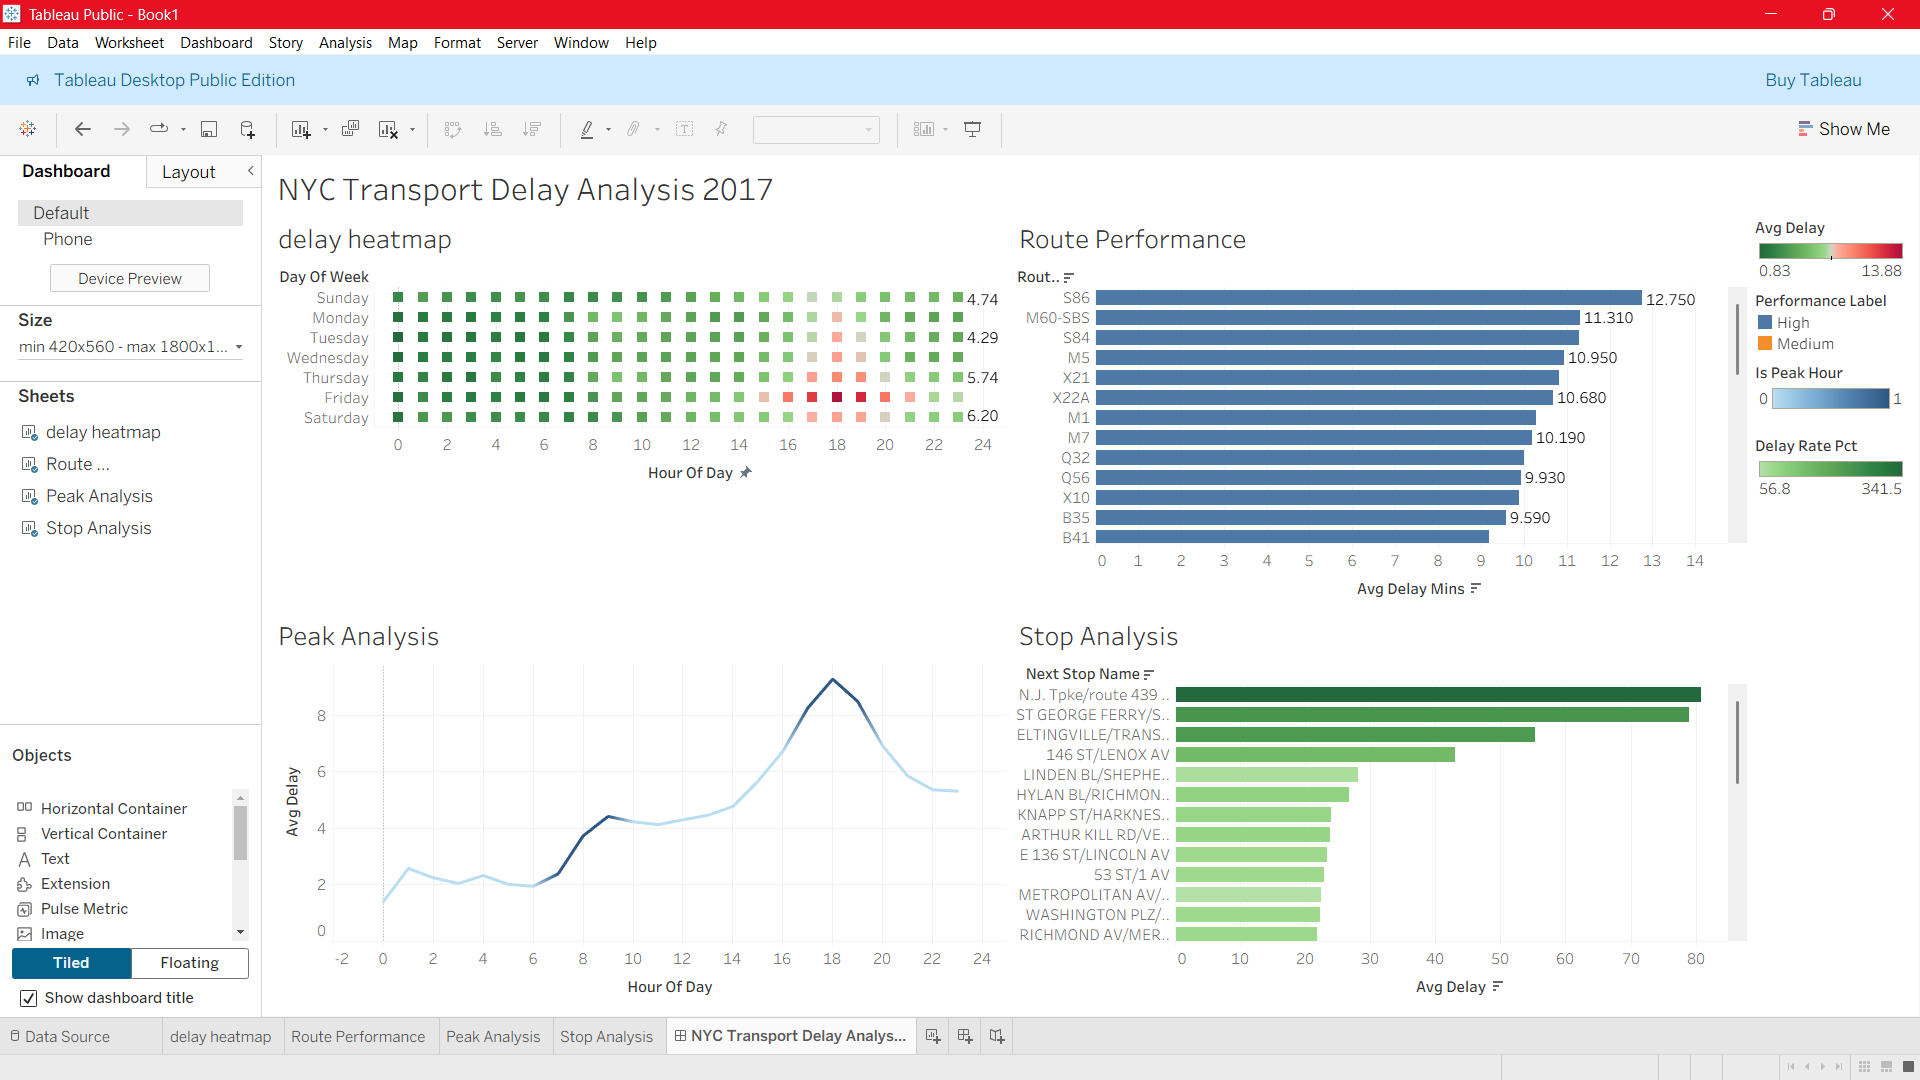

What the dashboard file says about the page in this screenshot:
{"tool":"tableau","page":{"name":"NYC Transport Delay Analysis 2017","canvas":[1000,1000],"units":"permille","ordinal":0},"visuals":[{"type":"title","box":[4.8,9.3,990.3,58.1]},{"type":"worksheet","title":"delay heatmap","mark":"Square","rows":["day_of_week"],"cols":["hour_of_day"],"box":[4.8,67.4,446.9,461.7]},{"type":"worksheet","title":"Route Performance","mark":"Bar","rows":["route_id"],"cols":["avg_delay_mins"],"box":[451.7,67.4,446.9,461.7]},{"type":"legend","title":"delay heatmap","param":"[federated.1pjxawn14h8ekz19nebco0rfdwqf].[sum:avg_delay:qk]","box":[898.6,67.4,96.6,84.8]},{"type":"legend","title":"Route Performance","param":"[federated.0tv367d1t5x07j17jmyir1lxu0iv].[none:performance_label:nk]","box":[898.6,152.1,96.6,83.6]},{"type":"legend","title":"Peak Analysis","param":"[federated.0yib4tz0ls8r6s191za9w0h7ow10].[sum:is_peak_hour:qk]","box":[898.6,235.8,96.6,84.8]},{"type":"legend","title":"Stop Analysis","param":"[federated.005pa4z1czdeod1884hke0dwkybn].[sum:delay_rate_pct:qk]","box":[898.6,320.5,96.6,84.8]},{"type":"worksheet","title":"Peak Analysis","mark":"Line","rows":["avg_delay"],"cols":["hour_of_day"],"box":[4.8,529,446.9,461.7]},{"type":"worksheet","title":"Stop Analysis","mark":"Automatic","rows":["next_stop_name"],"cols":["avg_delay"],"box":[451.7,529,446.9,461.7]}]}

Visuals, with their boxes on the dashboard's canvas, which has no fixed pixel size, in thousandths of its width and height (x1, y1, x2, y2). These are canvas units, not pixel positions in the 1920x1080 screenshot, which may show the page scaled, cropped or inside an application window:
title: [left=5, top=9, right=995, bottom=67]
"delay heatmap" worksheet (Square marks): [left=5, top=67, right=452, bottom=529]
"Route Performance" worksheet (Bar marks): [left=452, top=67, right=899, bottom=529]
"delay heatmap" legend: [left=899, top=67, right=995, bottom=152]
"Route Performance" legend: [left=899, top=152, right=995, bottom=236]
"Peak Analysis" legend: [left=899, top=236, right=995, bottom=321]
"Stop Analysis" legend: [left=899, top=320, right=995, bottom=405]
"Peak Analysis" worksheet (Line marks): [left=5, top=529, right=452, bottom=991]
"Stop Analysis" worksheet: [left=452, top=529, right=899, bottom=991]
